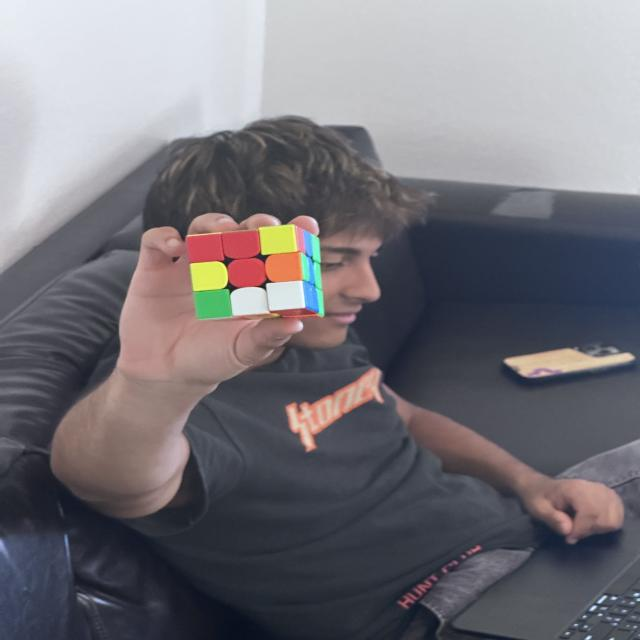sticker: (265, 279, 312, 314), (264, 251, 304, 284), (230, 285, 270, 318), (221, 229, 262, 261), (193, 288, 233, 320), (227, 257, 267, 289), (190, 260, 229, 292), (258, 224, 296, 256), (186, 234, 225, 264), (302, 281, 321, 315), (300, 228, 317, 259), (309, 239, 321, 264), (312, 264, 322, 293)
